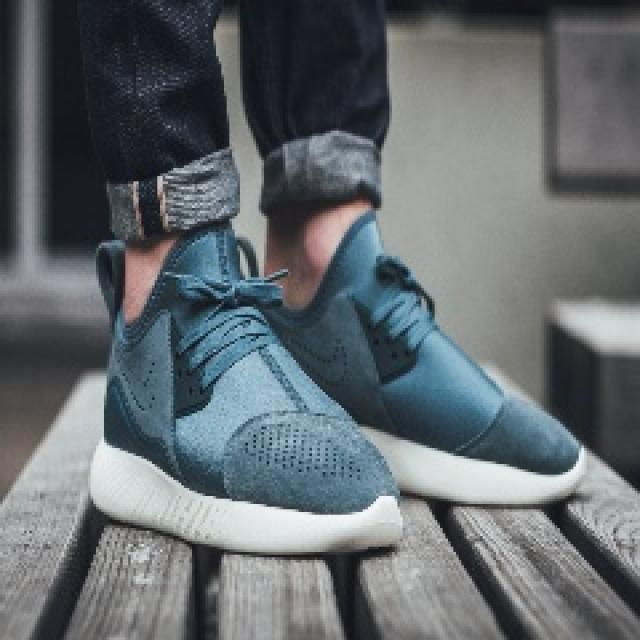shoes: (84, 208, 408, 572), (258, 198, 594, 518)
